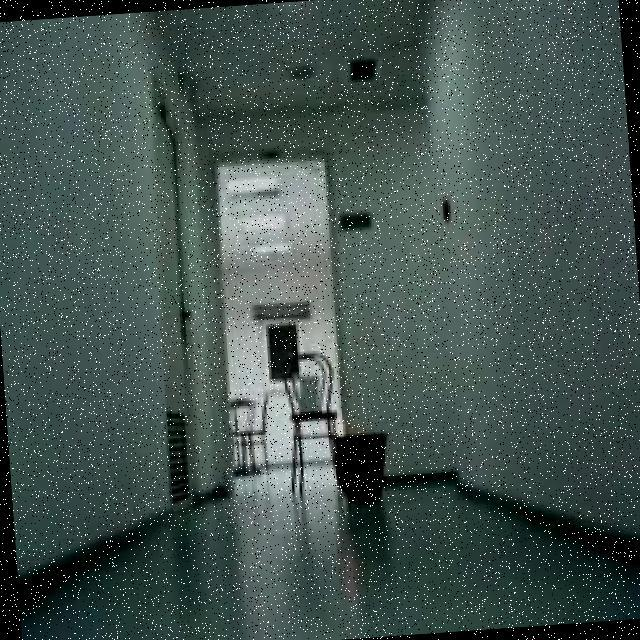Fire: (326, 419, 344, 437)
